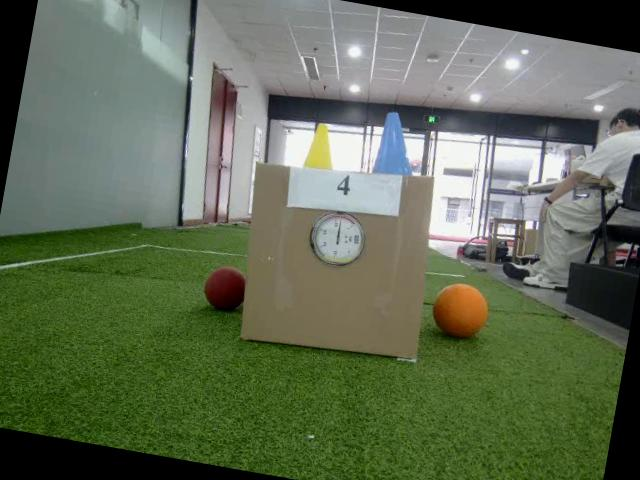4: (333, 172, 354, 197)
Dashboard: (304, 206, 369, 270)
blue_barrel: (369, 108, 424, 182)
orange_ball: (426, 278, 494, 342)
red_ball: (200, 262, 248, 315)
ssi: (351, 233, 360, 246)
yellow_barrel: (300, 119, 340, 173)
